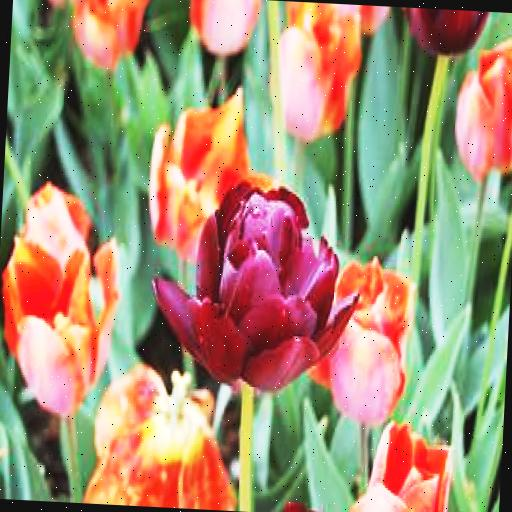tulip: (148, 177, 367, 397)
